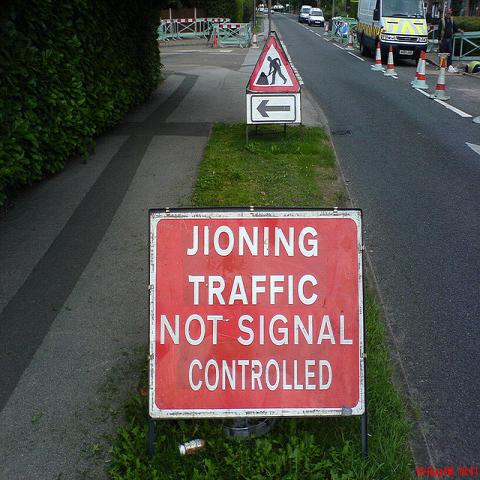car: (308, 8, 325, 26), (300, 5, 312, 23), (263, 8, 275, 15), (346, 21, 358, 28)
truck: (355, 0, 429, 66)
